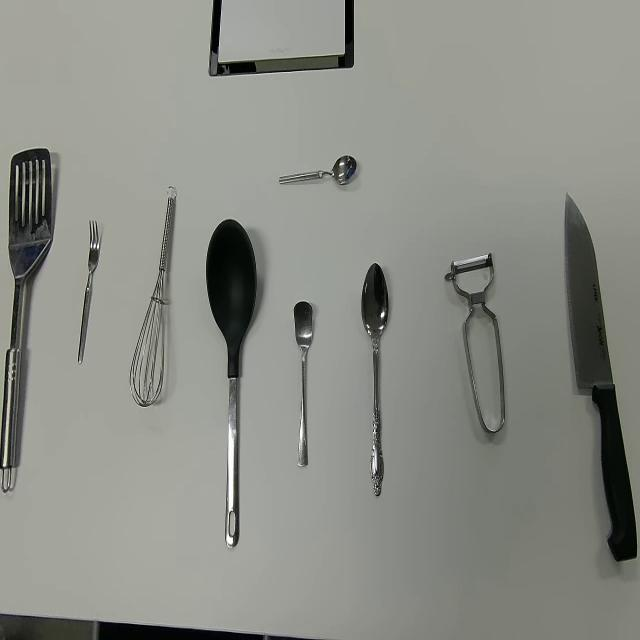Desert-Spoon: (360, 261, 390, 498)
Dinner-Fork: (76, 218, 99, 366)
Kitchen-Knife: (564, 190, 638, 564)
Peeler: (444, 250, 506, 434)
Serving-Spoon: (1, 146, 54, 494), (205, 217, 257, 549)
Tea-Spoon: (293, 298, 313, 468), (278, 152, 358, 187)
Whisk: (128, 184, 178, 408)
